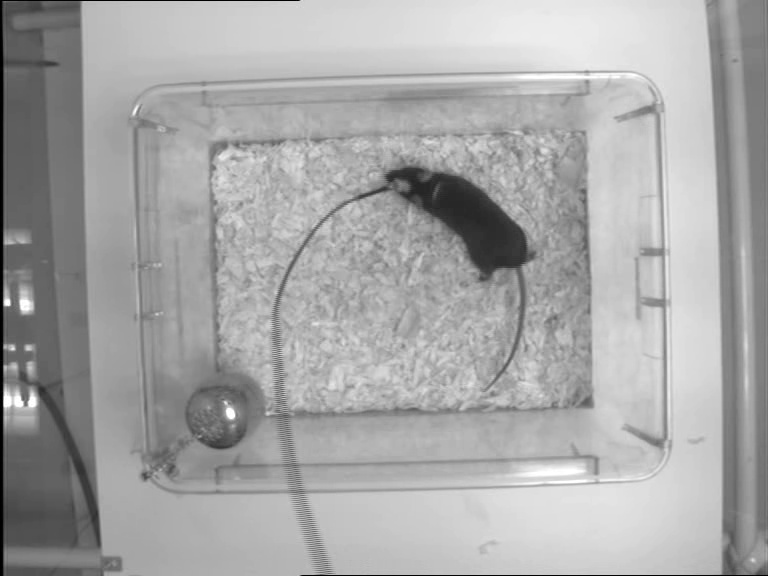mice: (384, 165, 537, 393)
